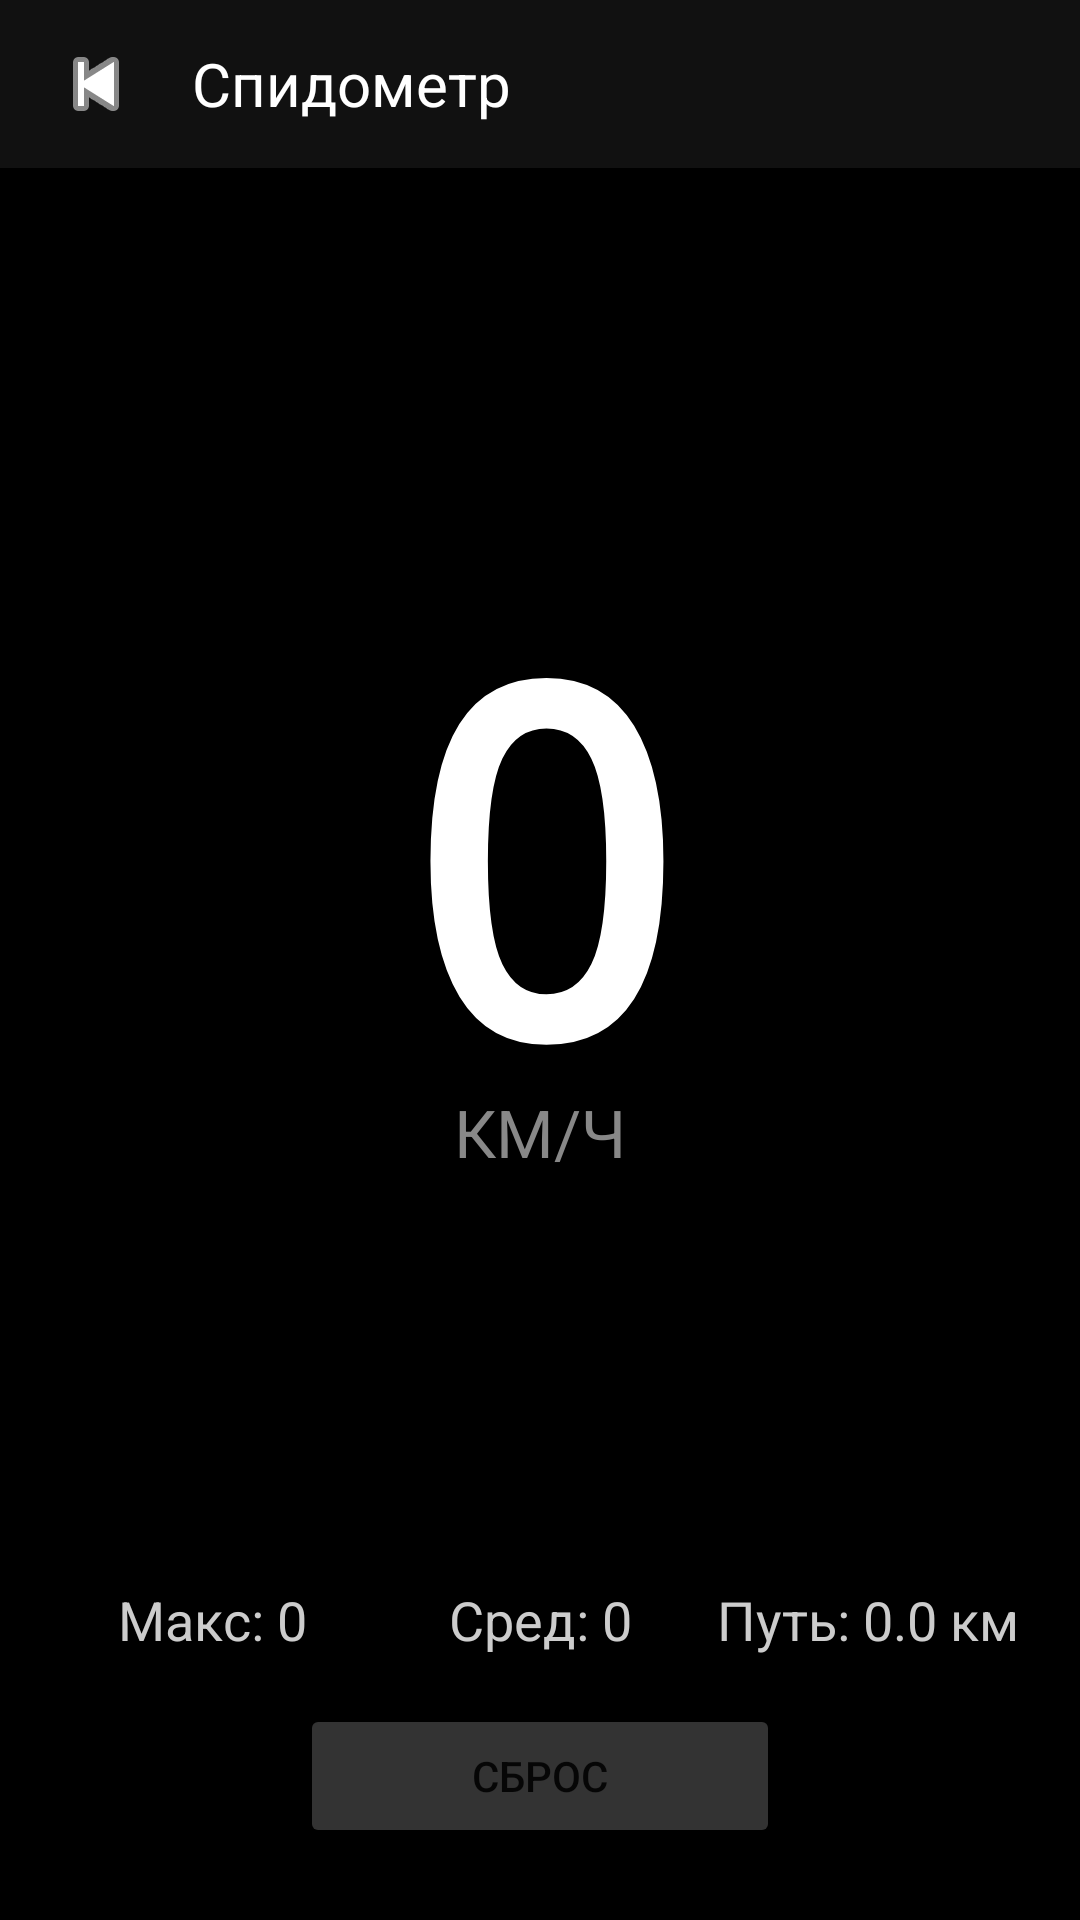

Icons on this 1080*1920 Android screen, each with its box as (x1=x1, y1=y1, x2=x2, y2=y2):
Назад: (x1=73, y1=57, x2=119, y2=111)
